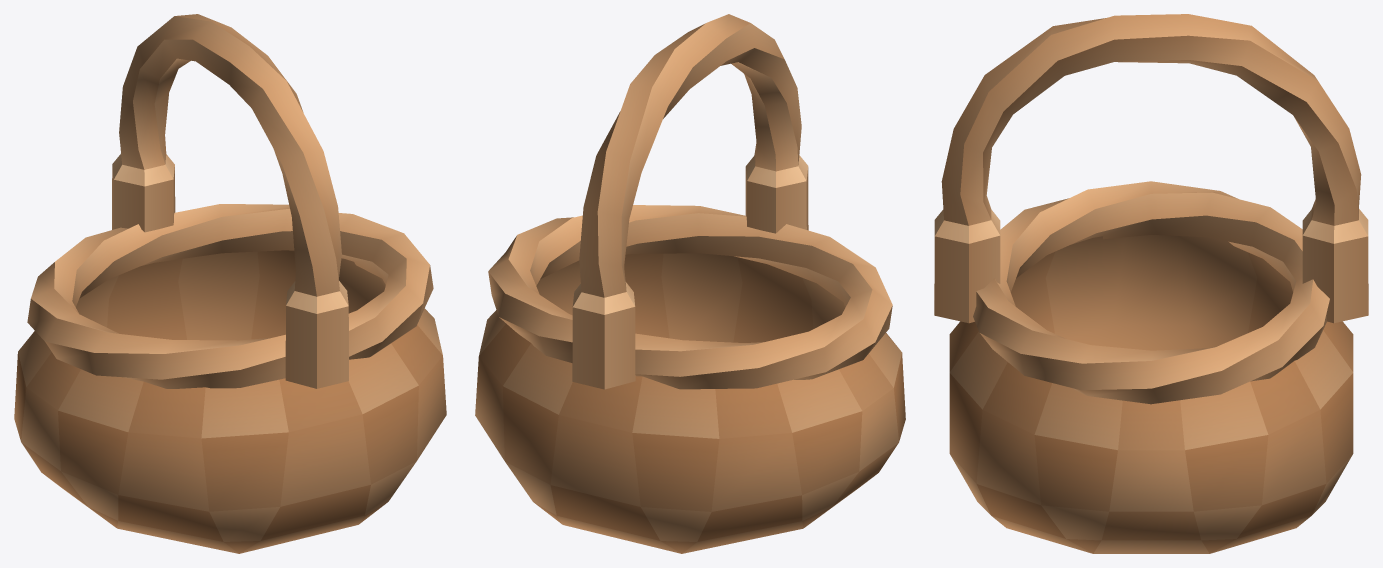
File: prop_basket.glb
3 renders of one model, left to right at view 1: azimuth 30°, elevation 25°; view 2: azimuth 150°, elevation 25°; view 3: azimuth 270°, elevation 25°, orthographic. The views are drawn at different scales.
Visible parts, largest first — view 1: Basket, Basket_Handle; view 2: Basket, Basket_Handle; view 3: Basket, Basket_Handle.
Boxes of the visible parts, bbox=[...] form: Basket: bbox=[14, 204, 446, 553]; Basket_Handle: bbox=[112, 14, 348, 388]; Basket: bbox=[475, 205, 905, 553]; Basket_Handle: bbox=[572, 14, 808, 389]; Basket: bbox=[949, 181, 1353, 553]; Basket_Handle: bbox=[934, 14, 1368, 323].
Size of the model in its own units: 0.639 by 0.7338 by 0.5984.
1 material, 1 textured.
